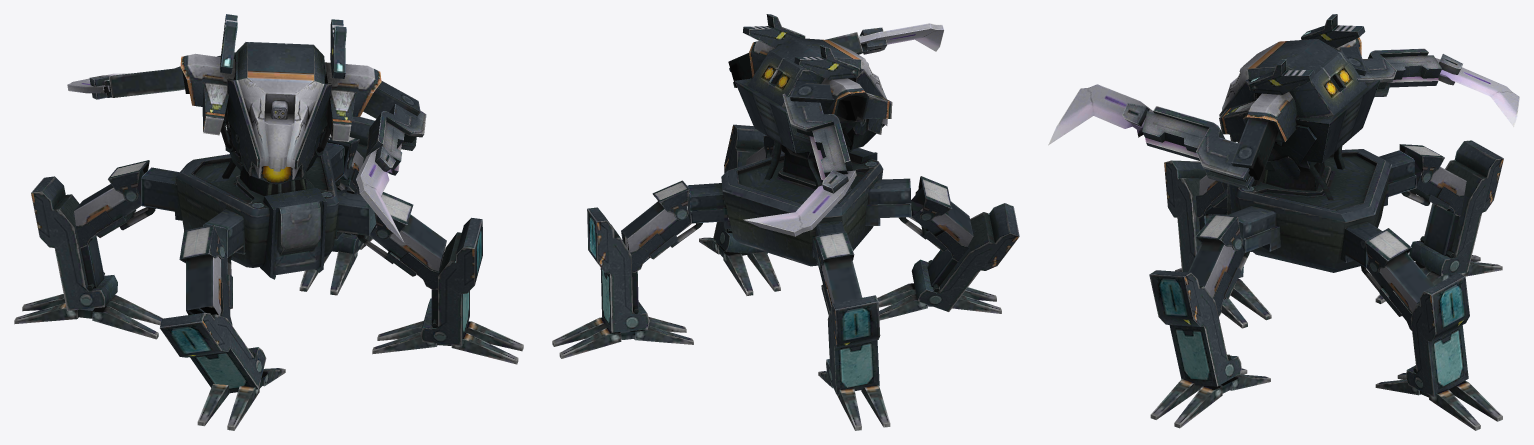
3 renders of one model, left to right at view 1: azimuth 30°, elevation 25°; view 2: azimuth 150°, elevation 25°; view 3: azimuth 270°, elevation 25°, orthographic. The views are drawn at different scales.
Visible parts, largest first — view 1: 20_10; view 2: 20_10; view 3: 20_10.
Boxes of the visible parts, box(x1,y1,x2,y2) form: 20_10: box(14, 14, 523, 430); 20_10: box(552, 14, 1019, 430); 20_10: box(1048, 14, 1519, 430).
Bounding box in the file's own units: 301 × 255 × 349.
